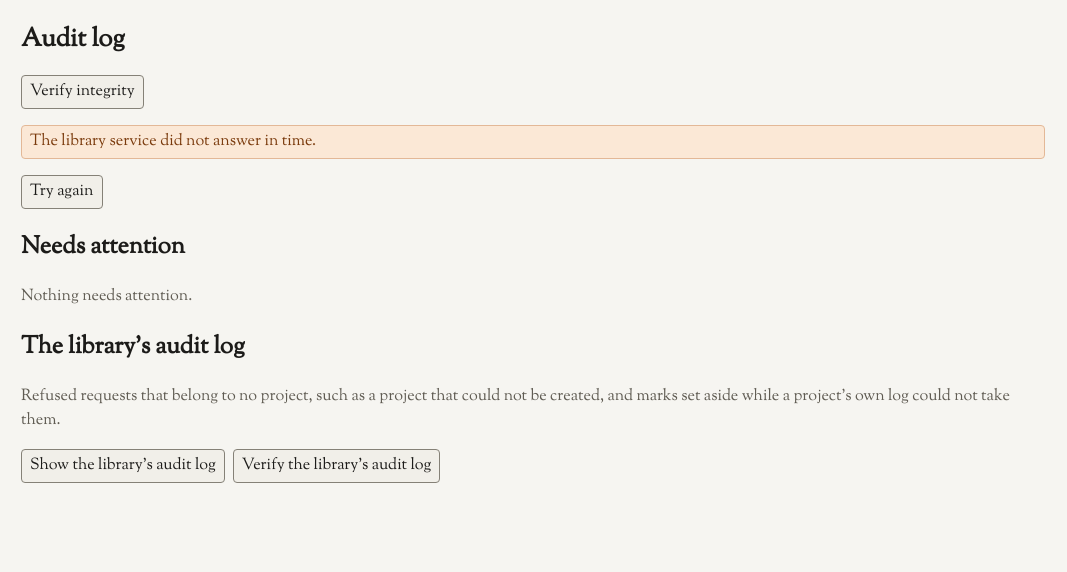
Test case: FR-756: the audit log › a read of the log that never settles is given up at the limit: the alert and “Try again”; pressed, the log is shown and focus is not lost
Step 1. Click the button "Try again" → (62, 192), box x1=21 y1=175 x2=103 y2=209
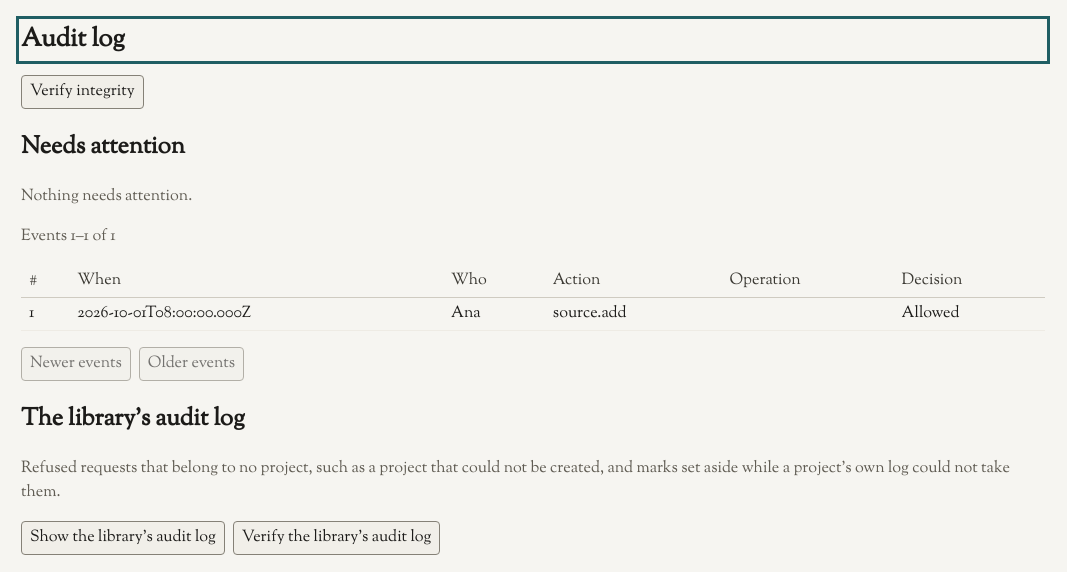
Expected: the table named "Audit events" is shown, x1=21 y1=265 x2=1045 y2=331
Expected: the button "Try again" is gone
